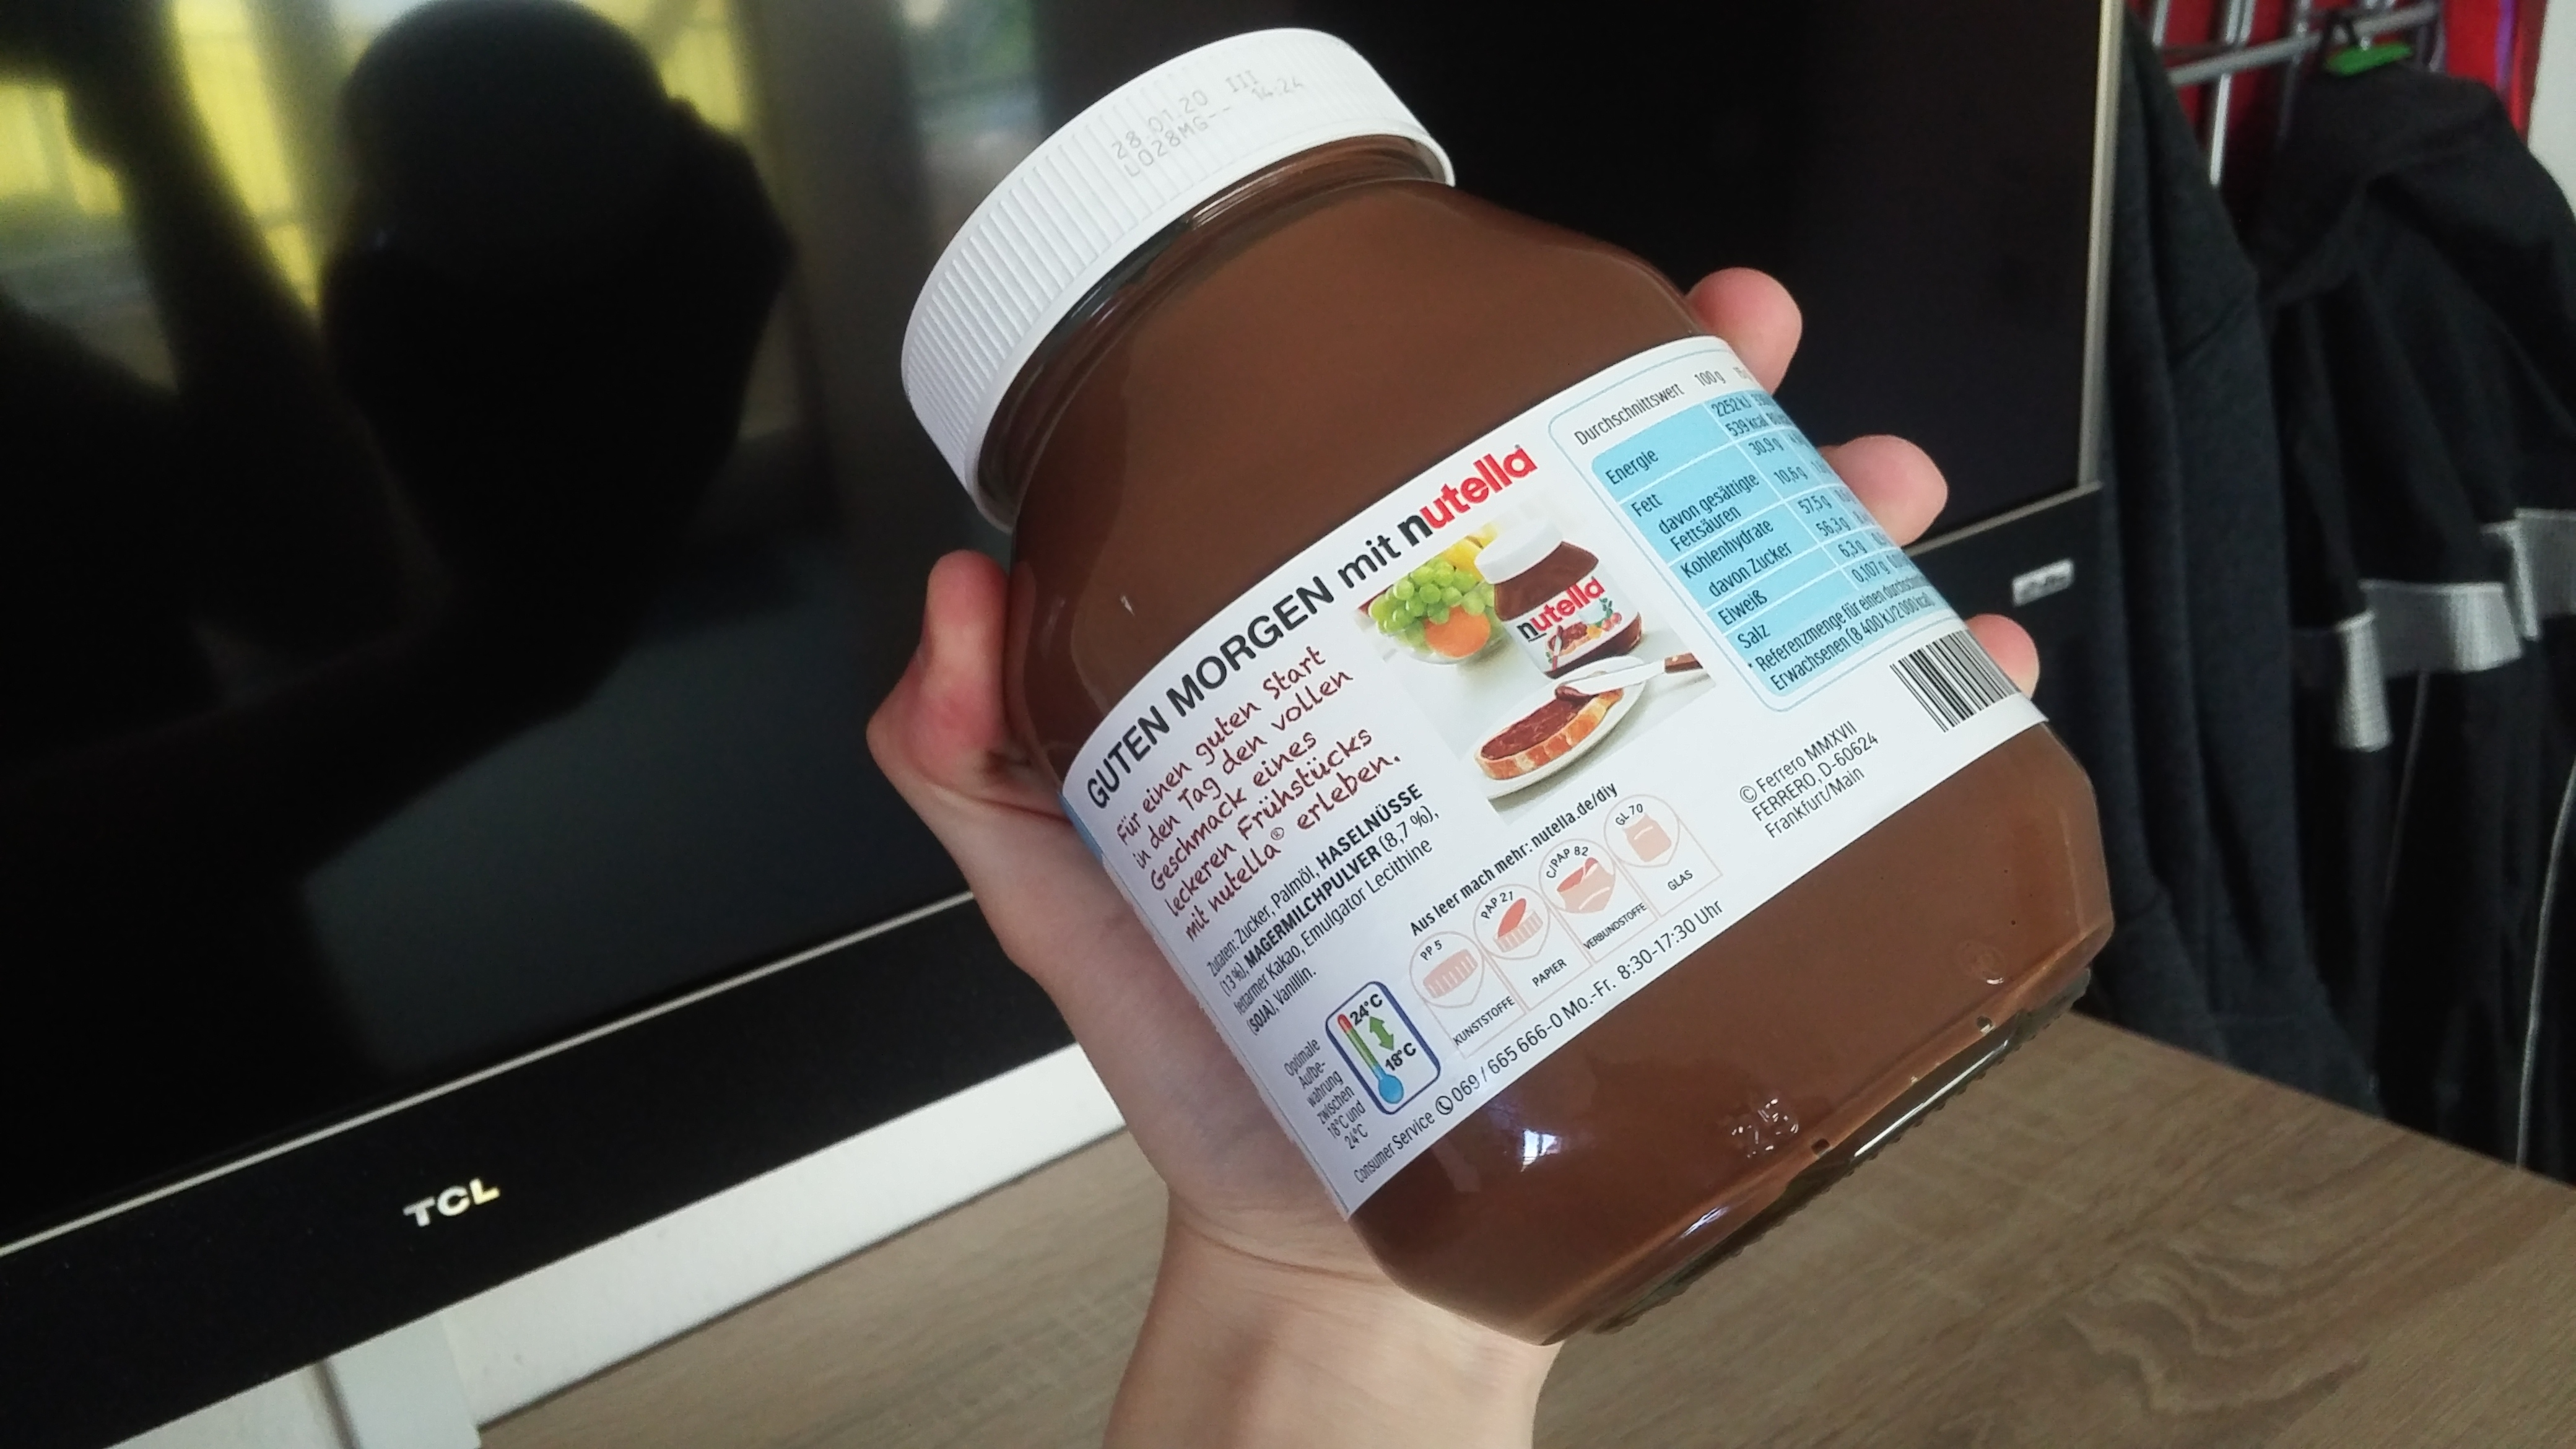nutella: (895, 23, 2118, 1346)
